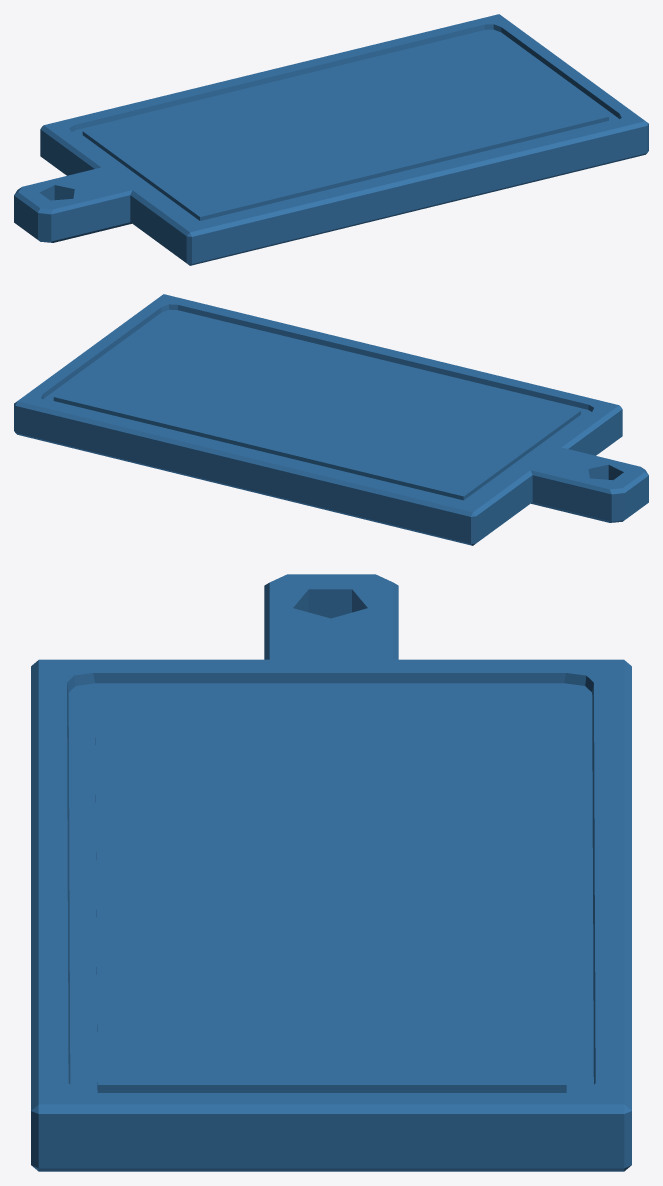
File: tablamadera01.fbx
3 renders of one model, top to bottom at view 1: azimuth 30°, elevation 25°; view 2: azimuth 150°, elevation 25°; view 3: azimuth 270°, elevation 25°, orthographic. The views are drawn at different scales.
Parts seen in each view (by area): view 1: polySurface2632; view 2: polySurface2632; view 3: polySurface2632.
Part boxes in pixels (box(x1,y1,x2,y2)): polySurface2632: box(14, 14, 648, 265); polySurface2632: box(14, 294, 648, 545); polySurface2632: box(31, 574, 631, 1171).
Size of the model in its own units: 0.4552 by 0.0266 by 0.2154.
